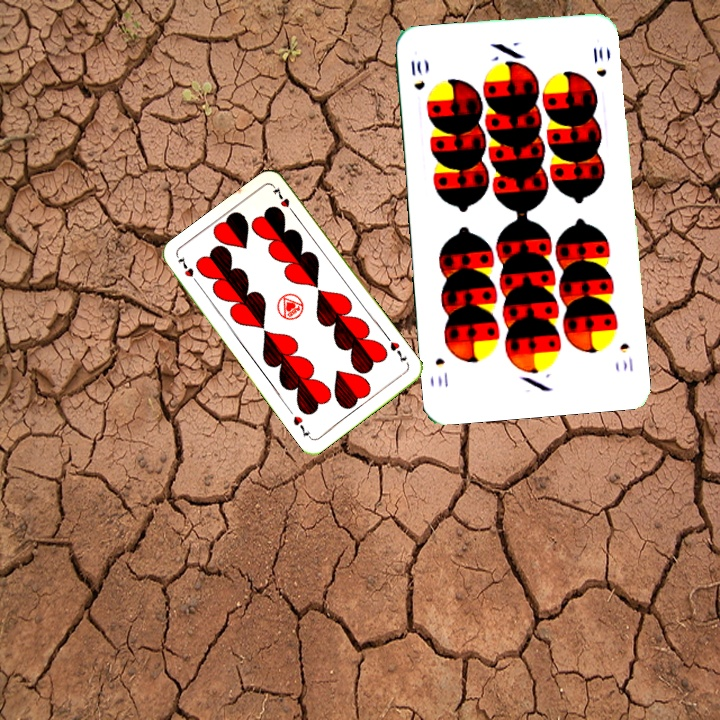H7: (174, 252, 202, 288), (386, 337, 409, 365)
S10: (407, 56, 427, 93), (616, 339, 636, 374)
